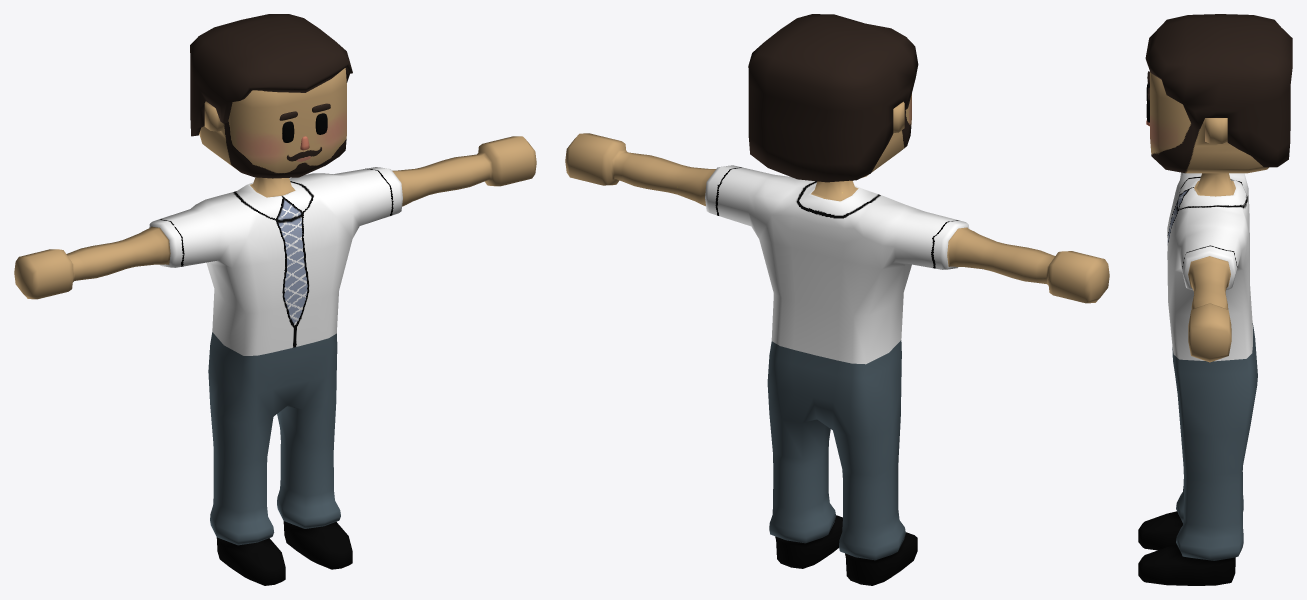
File: Alex_Model.fbx
3 views of the same model, side by side, from view 1: azimuth 30°, elevation 25°; view 2: azimuth 150°, elevation 25°; view 3: azimuth 270°, elevation 25° (orthographic). The views are drawn at different scales.
Visible parts, largest first — view 1: Alex_Base; view 2: Alex_Base; view 3: Alex_Base.
Part boxes in pixels (x1,y1,x2,y2): Alex_Base: [14, 14, 536, 585]; Alex_Base: [565, 14, 1109, 585]; Alex_Base: [1138, 14, 1292, 585].
Size of the model in its own units: 189 by 185 by 48.44.
